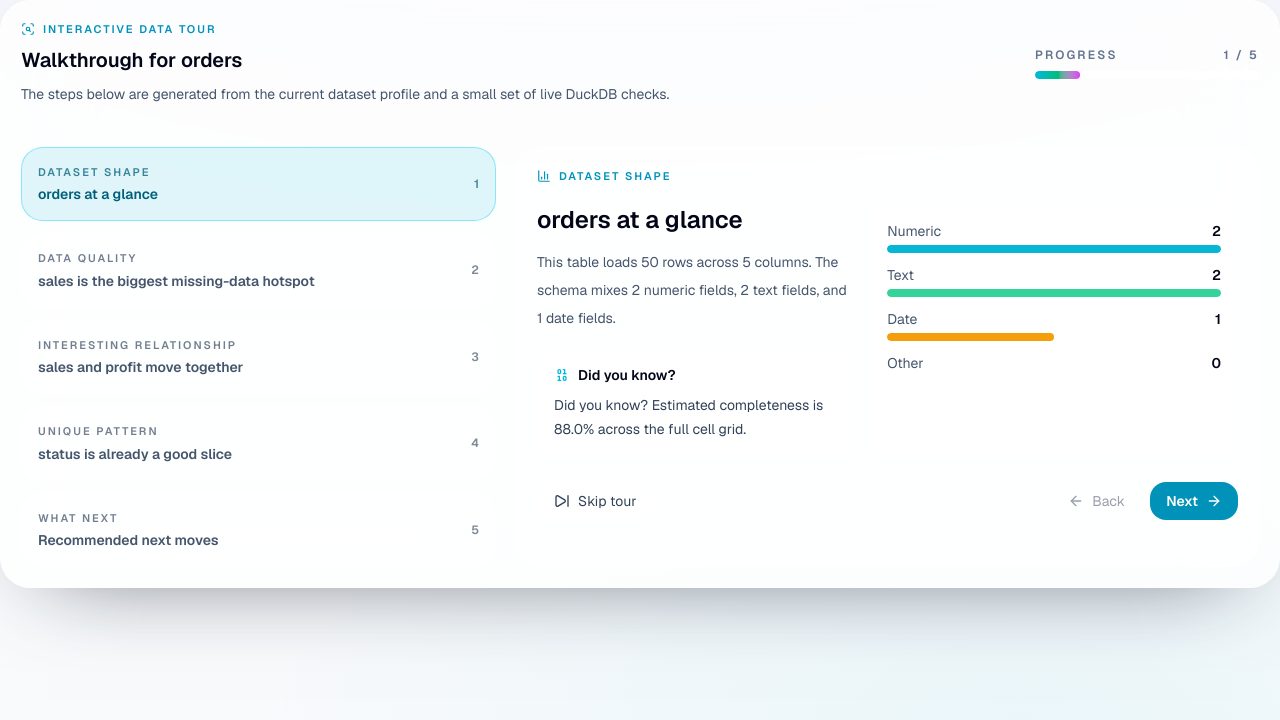
Test case: DataTour › lets the user navigate between generated steps
Click the button "Next". click: (1194, 501)
box: [1150,482,1238,520]
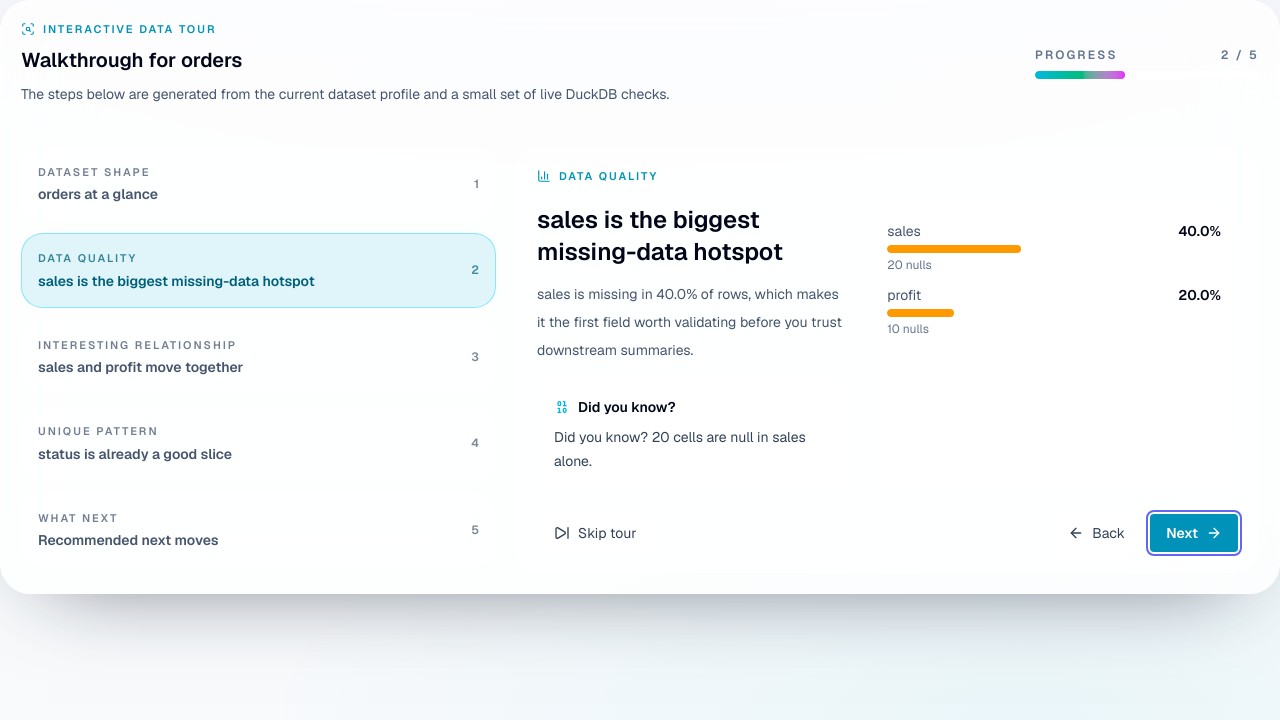
Now the heading "sales is the biggest missing-data hotspot" is shown, box [537,204,783,267]
Click the button "Unique pattern status is already a good slice 4". click: (98, 431)
box: [21,406,496,480]
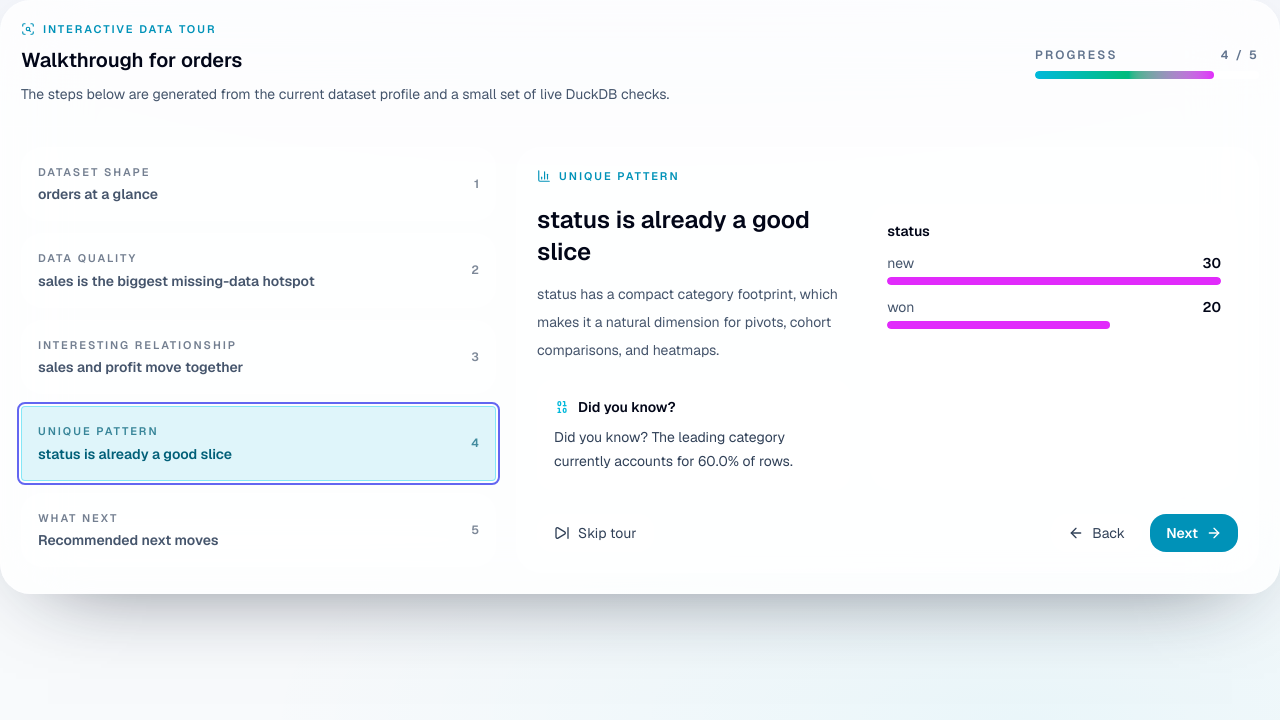
Now the heading "status is already a good slice" is shown, box [537,204,850,268]
Now the text "4 / 5" is shown, box [1221,47,1259,63]
Click the button "Back". click: (1097, 533)
box: [1051,514,1142,552]
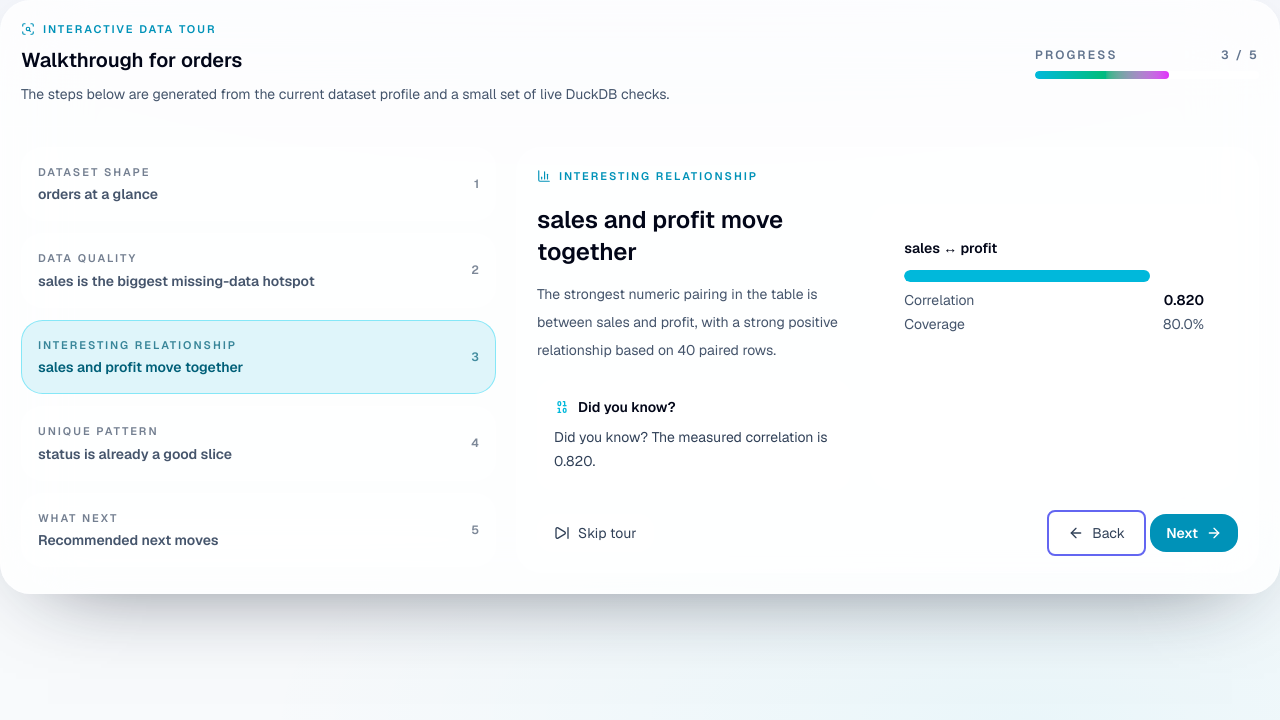
Now the heading "sales and profit move together" is shown, box [537,204,783,267]
